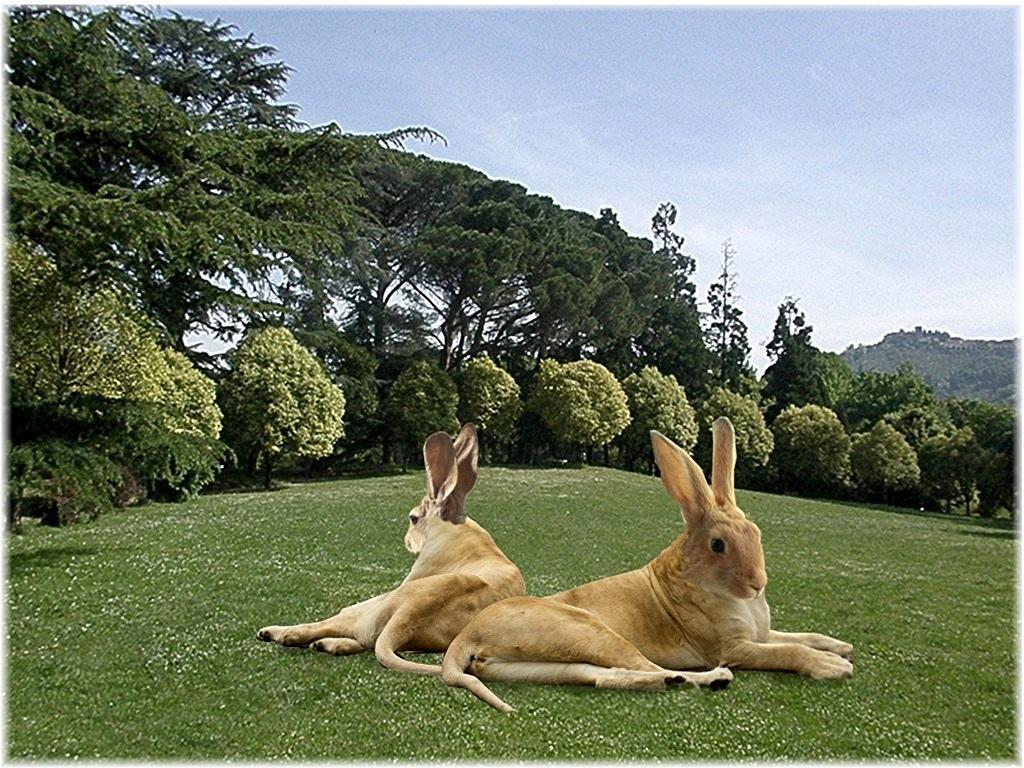kangaroo: (435, 412, 855, 718), (257, 426, 531, 718)
